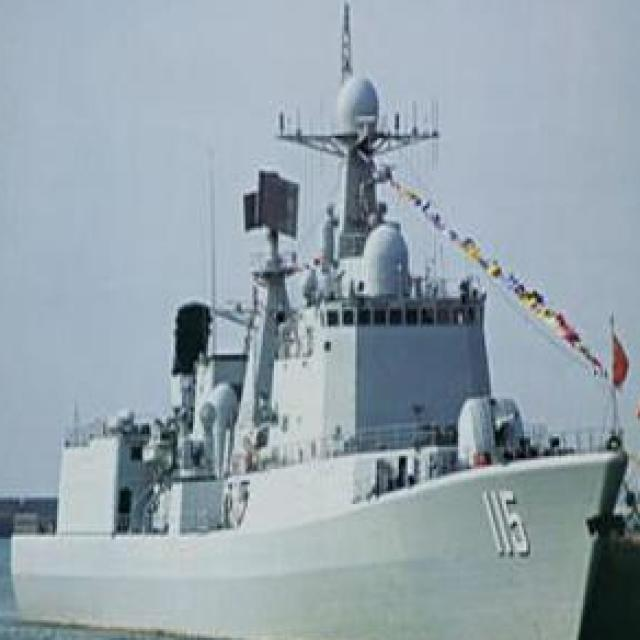navalvessels: (11, 35, 622, 640)
